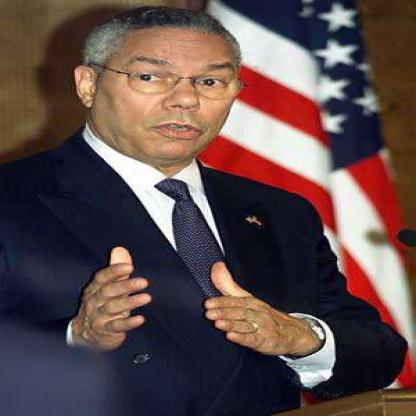face: (95, 14, 248, 164)
